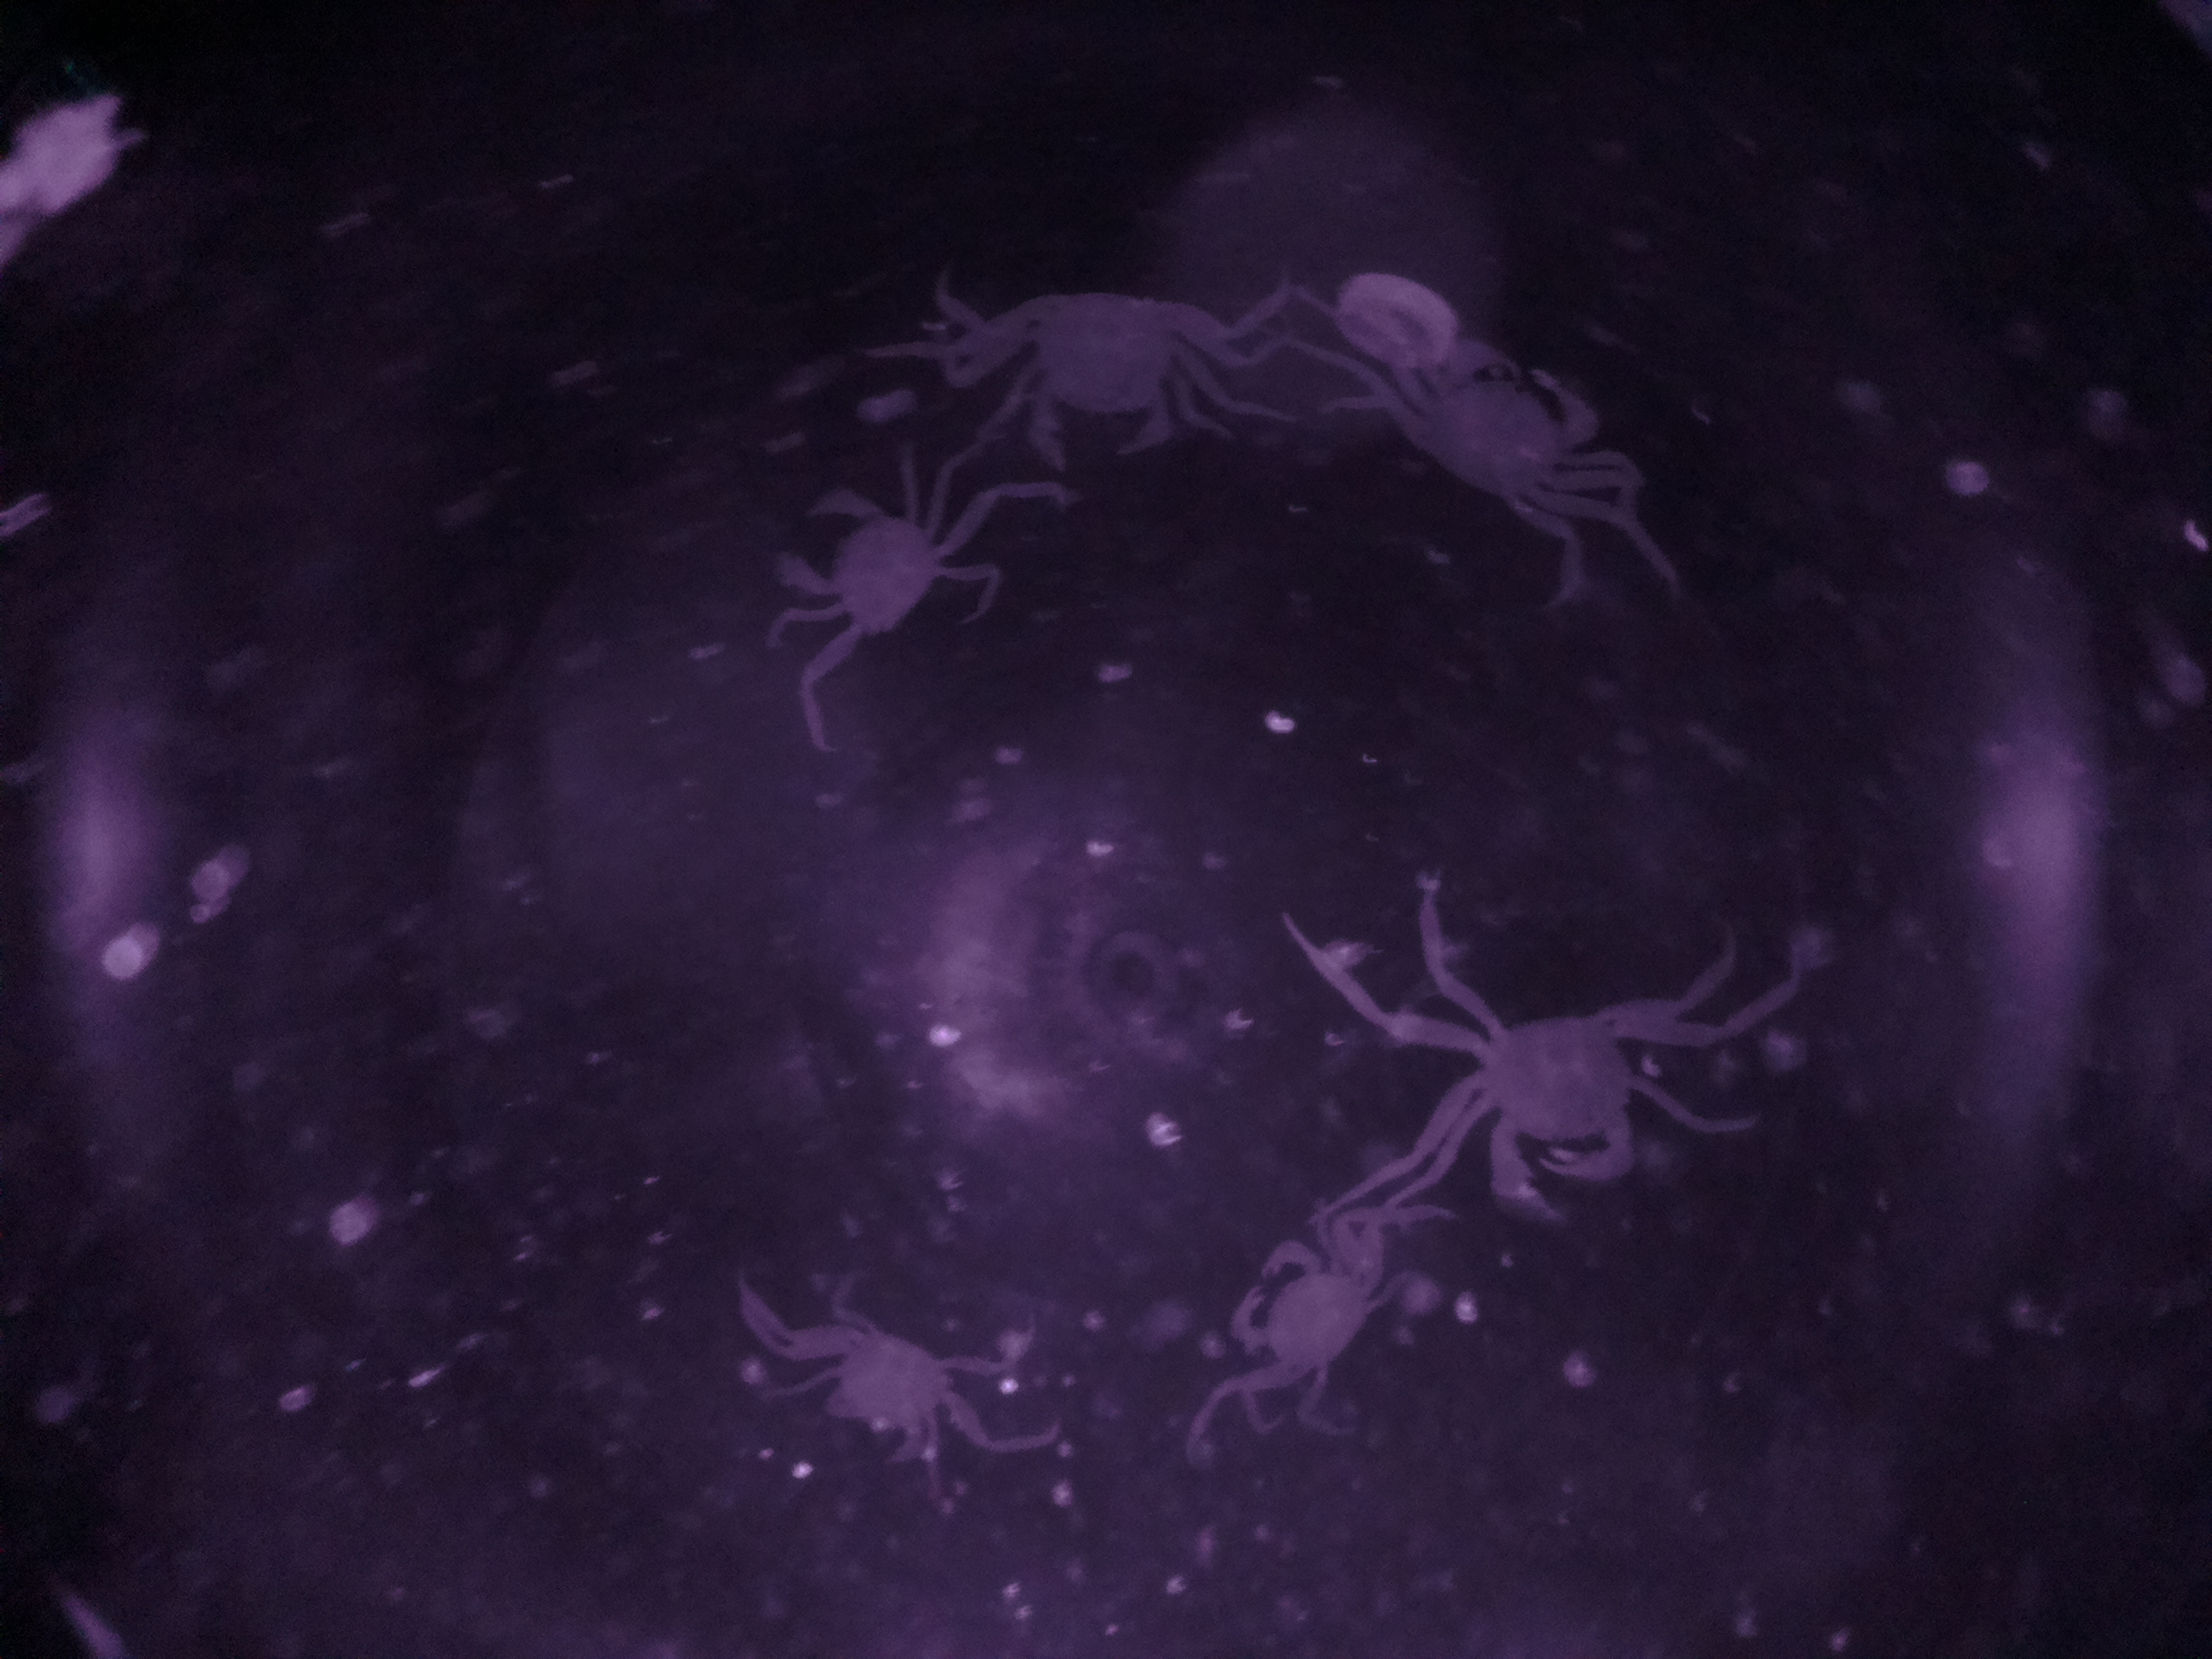Crab: (1416, 955, 1714, 1255), (956, 275, 1271, 495), (1343, 329, 1625, 554), (779, 1276, 1012, 1507), (777, 474, 1010, 681), (1191, 1209, 1400, 1420)
